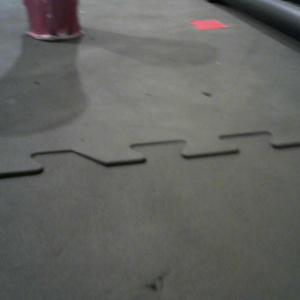Middle: (25, 1, 83, 42)
